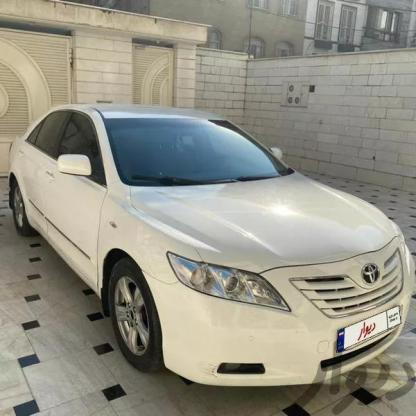Car: (0, 108, 416, 393)
